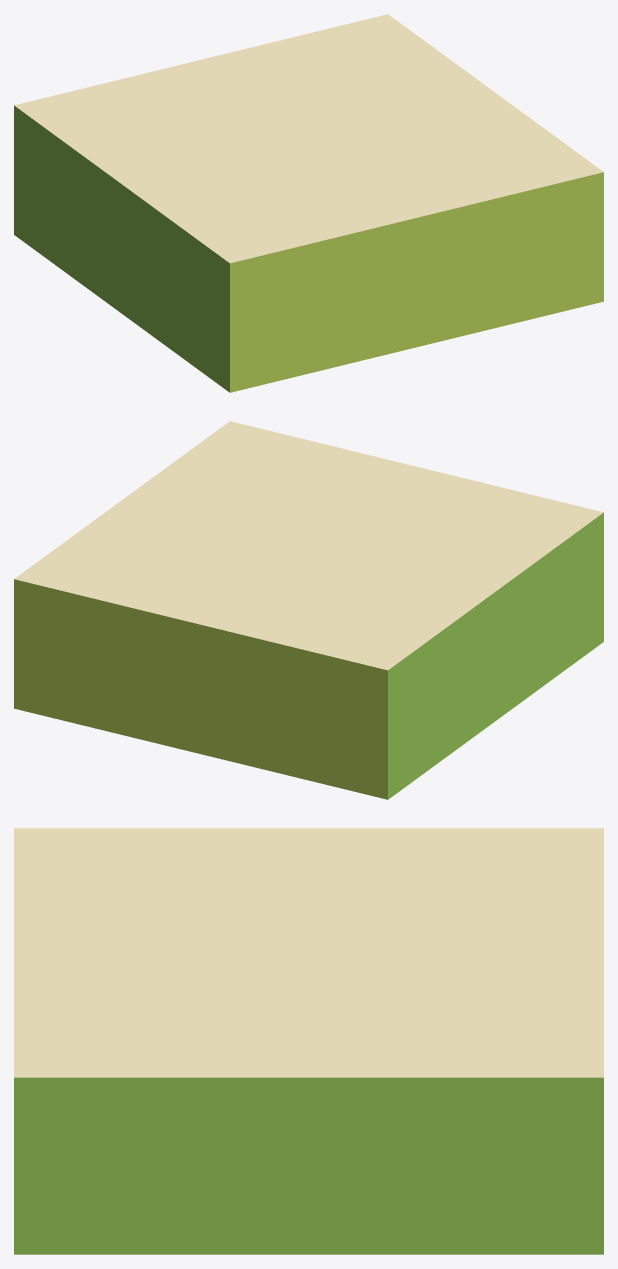
File: floor_crosswalk3.fbx
3 renders of one model, top to bottom at view 1: azimuth 30°, elevation 25°; view 2: azimuth 150°, elevation 25°; view 3: azimuth 270°, elevation 25°, orthographic. The views are drawn at different scales.
Visible parts, largest first — view 1: floor_crosswalk3; view 2: floor_crosswalk3; view 3: floor_crosswalk3.
Boxes of the visible parts, box(x1,y1,x2,y2) form: floor_crosswalk3: box(14, 14, 603, 392); floor_crosswalk3: box(14, 421, 603, 799); floor_crosswalk3: box(14, 828, 603, 1254).
Bounding box in the file's own units: 100 × 33.07 × 100.
